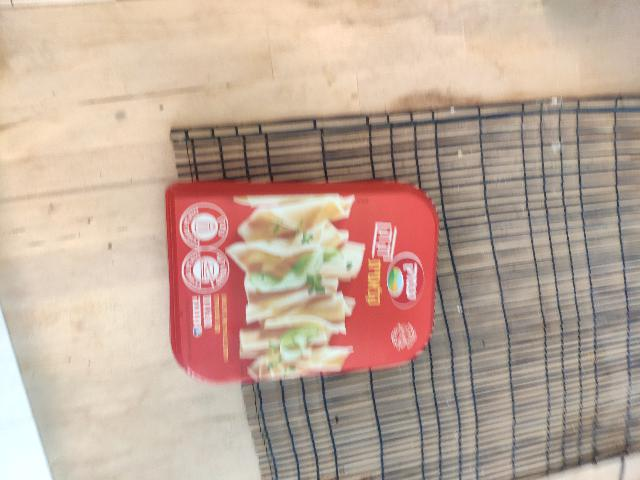cheese: (354, 192, 534, 471)
